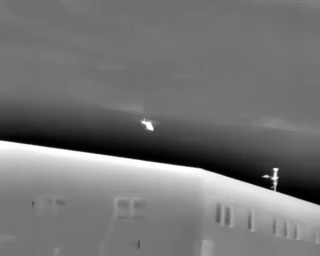HELICOPTER: (138, 114, 164, 137)
